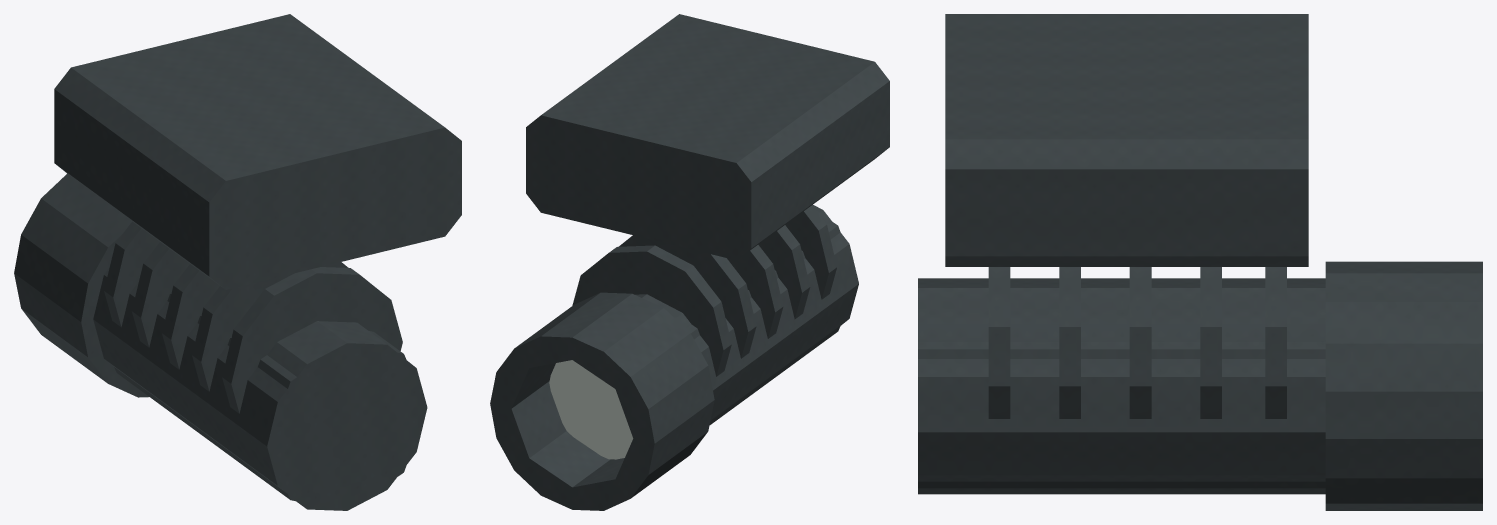
File: pistol_light.glb
3 renders of one model, left to right at view 1: azimuth 30°, elevation 25°; view 2: azimuth 150°, elevation 25°; view 3: azimuth 270°, elevation 25°, orthographic. The views are drawn at different scales.
Visible parts, largest first — view 1: pistol_light_battery_tube, pistol_light_battery_tube.001; view 2: pistol_light_battery_tube, pistol_light_battery_tube.001, pistol_light_reflector; view 3: pistol_light_battery_tube, pistol_light_battery_tube.001.
Boxes of the visible parts, left/top/right/bottom form: pistol_light_battery_tube: left=14, top=14, right=461, bottom=510; pistol_light_battery_tube.001: left=81, top=244, right=427, bottom=510; pistol_light_battery_tube: left=490, top=14, right=889, bottom=510; pistol_light_battery_tube.001: left=491, top=221, right=840, bottom=508; pistol_light_reflector: left=549, top=360, right=633, bottom=459; pistol_light_battery_tube: left=918, top=14, right=1482, bottom=510; pistol_light_battery_tube.001: left=918, top=342, right=1325, bottom=488.
Size of the model in its own units: 0.063 by 0.086 by 0.1041.
Materials: 2 (1 with a texture image).
